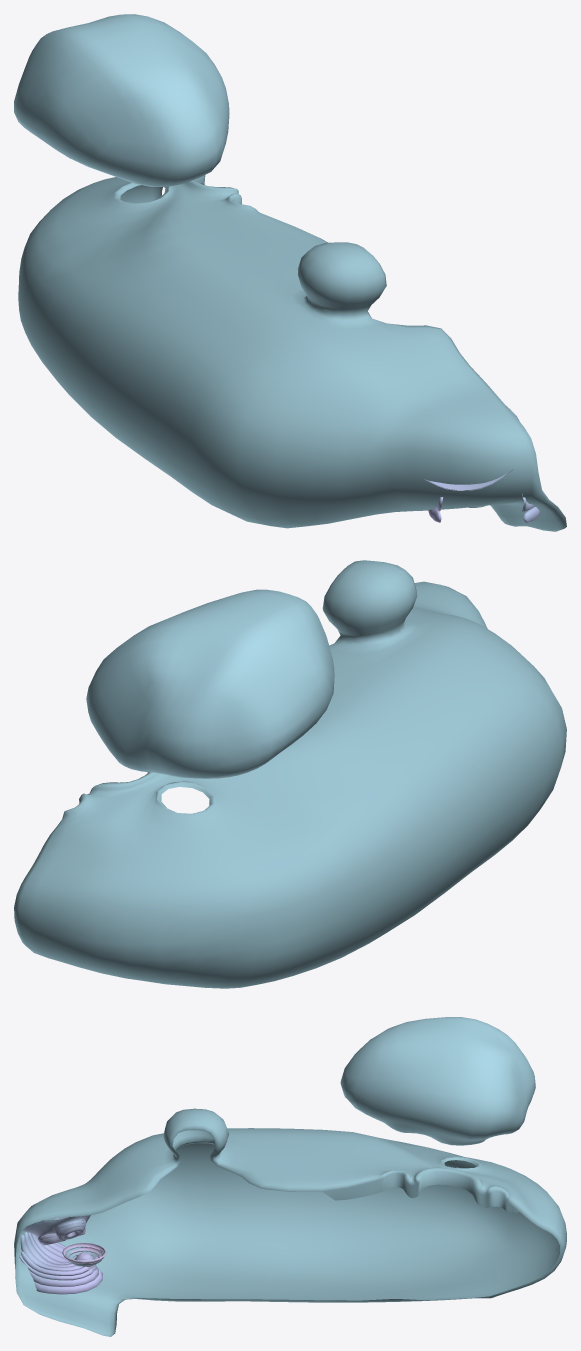
Rendered from Stomach.fbx.
The picture shows the model from 3 angles, top to bottom: view 1: azimuth 30°, elevation 25°; view 2: azimuth 150°, elevation 25°; view 3: azimuth 270°, elevation 25°; orthographic projection. The views are drawn at different scales.
Visible parts, largest first — view 1: Wall, Wall2; view 2: Wall, Wall2; view 3: Wall, Wall2, Shore, Entrance, Gastric_Wall_weak.
Part boxes in pixels (x1,y1,x2,y2): Wall: (18,175,566,531); Wall2: (14,14,229,186); Wall: (14,560,566,988); Wall2: (86,589,334,778); Wall: (14,1108,566,1336); Wall2: (340,1017,535,1145); Shore: (19,1232,102,1294); Entrance: (22,1215,90,1245); Gastric_Wall_weak: (62,1243,106,1267).
Bounding box in the file's own units: 5363 × 6667 × 13088.
